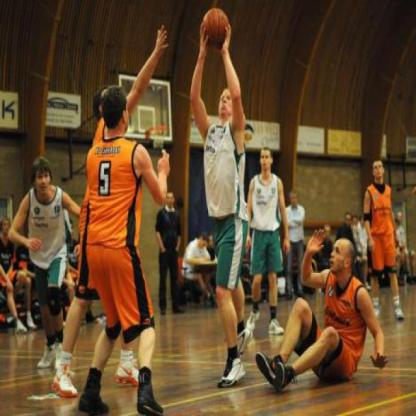basketball: (203, 10, 233, 50)
